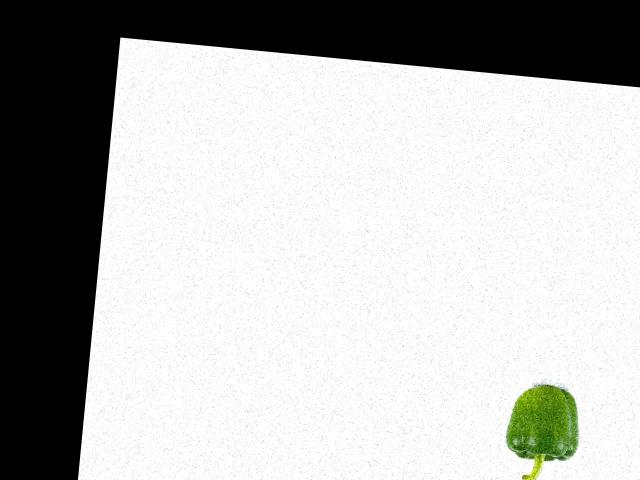bell_pepper: (500, 381, 595, 480)
